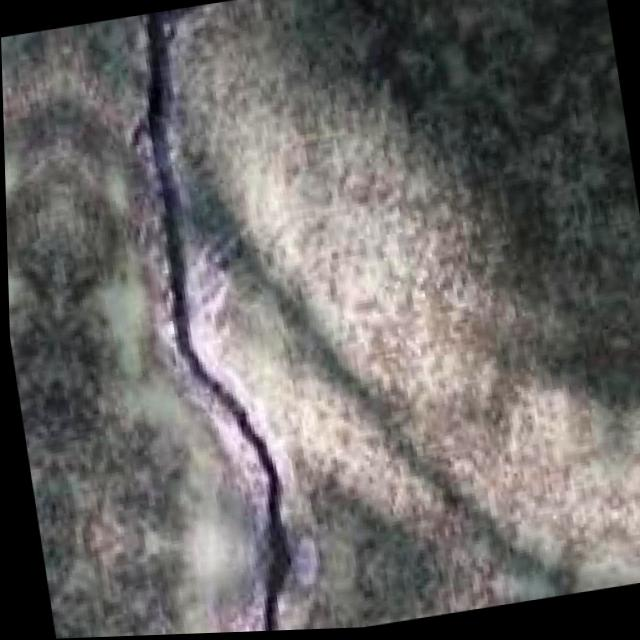Crack: (84, 0, 342, 638)
